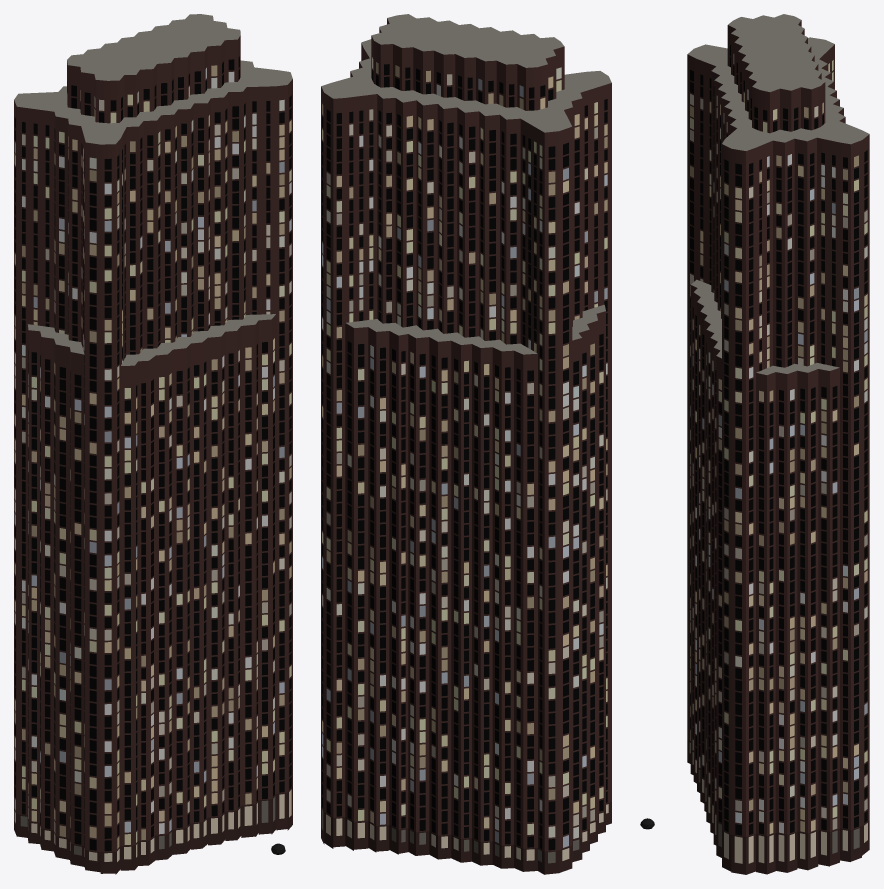
3 renders of one model, left to right at view 1: azimuth 30°, elevation 25°; view 2: azimuth 150°, elevation 25°; view 3: azimuth 270°, elevation 25°, orthographic. The views are drawn at different scales.
Parts seen in each view (by area): view 1: L1_granite, L1_win, L1_roof, L1_shop; view 2: L1_granite, L1_win, L1_roof, L1_shop; view 3: L1_granite, L1_win, L1_roof, L1_shop.
Boxes of the visible parts, <box> form: L1_granite: <box>14,35,292,874</box>; L1_win: <box>14,56,291,851</box>; L1_roof: <box>14,14,292,365</box>; L1_shop: <box>14,789,291,861</box>; L1_granite: <box>321,18,611,874</box>; L1_win: <box>322,57,607,850</box>; L1_roof: <box>321,14,611,354</box>; L1_shop: <box>321,804,608,863</box>; L1_granite: <box>640,20,869,874</box>; L1_win: <box>690,45,867,835</box>; L1_roof: <box>688,14,869,374</box>; L1_shop: <box>689,742,867,863</box>.
Bounding box in the file's own units: 77.25 × 242 × 65.79.
